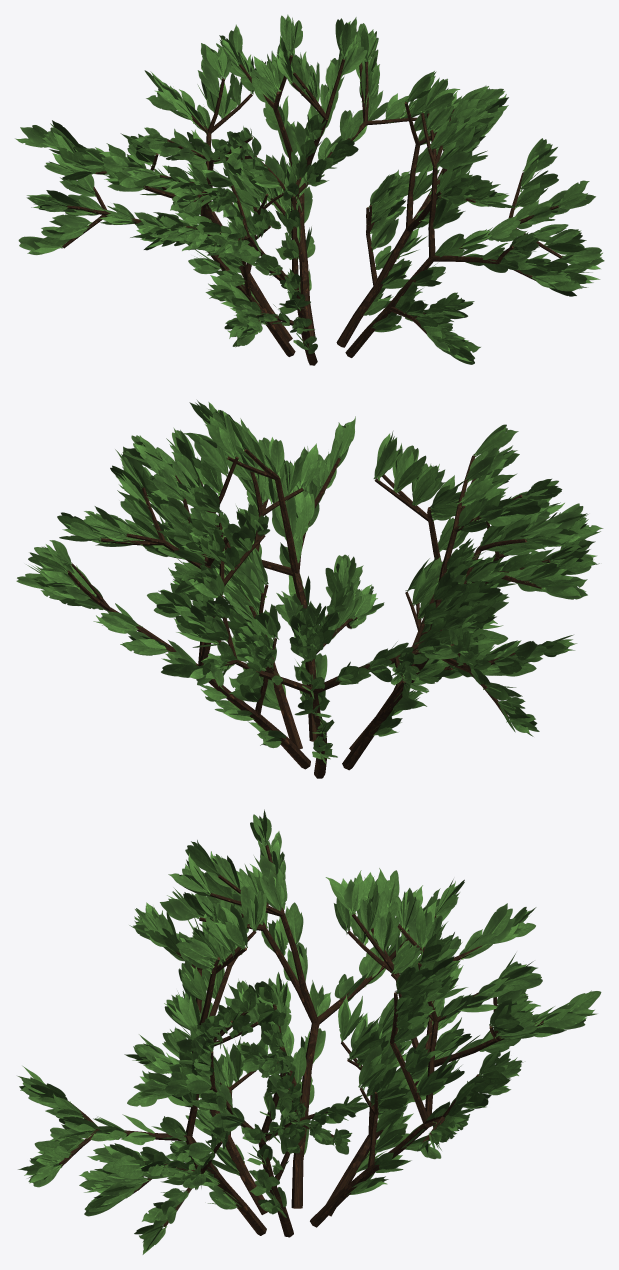
The model's file is sumac_scrub_v01.glb.
3 views of the same model, one above another, from view 1: azimuth 30°, elevation 25°; view 2: azimuth 150°, elevation 25°; view 3: azimuth 270°, elevation 25° (orthographic). The views are drawn at different scales.
Visible parts, largest first — view 1: sumac_scrub_v01; view 2: sumac_scrub_v01; view 3: sumac_scrub_v01.
Part boxes in pixels (x1,y1,x2,y2): sumac_scrub_v01: (15, 14, 604, 365); sumac_scrub_v01: (16, 400, 603, 778); sumac_scrub_v01: (17, 809, 601, 1254).
Size of the model in its own units: 2.31 by 1.33 by 2.21.
2 materials, 2 textured.
